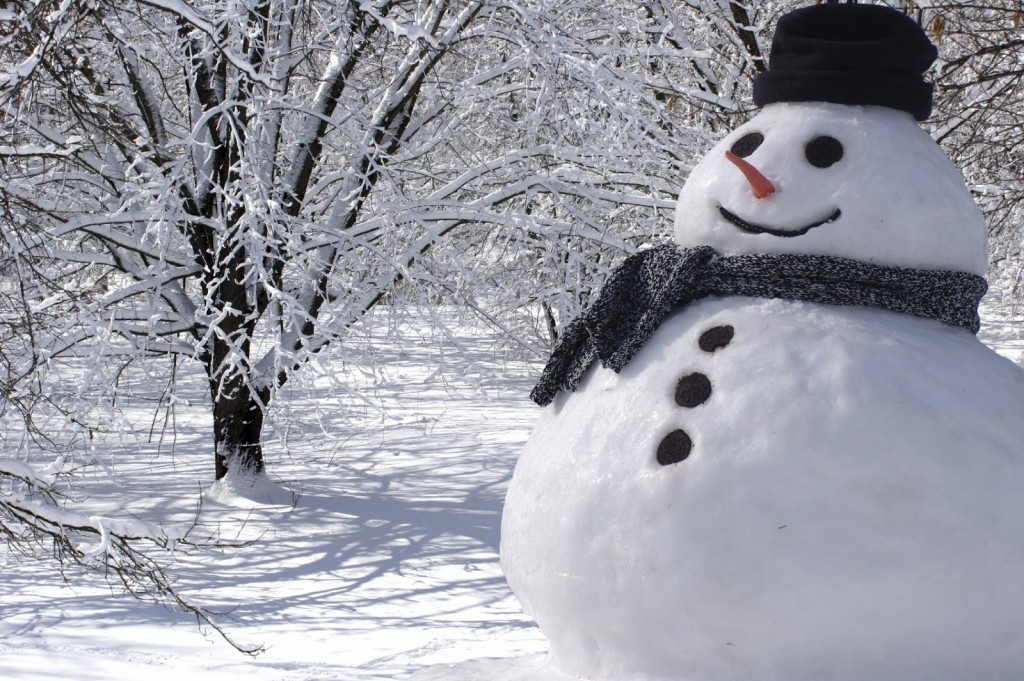person-like: (494, 4, 1023, 678)
